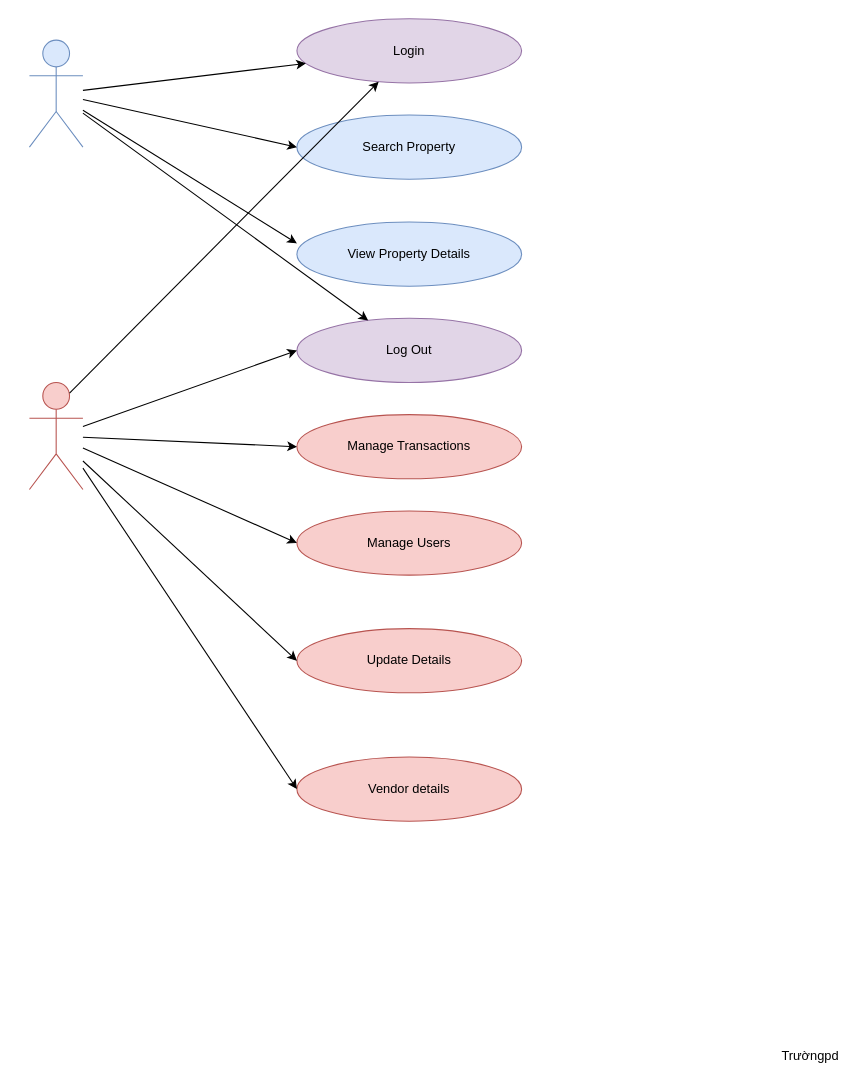
This 857x1086 diagram has some shape labels left out. The centre of each missing label's shape, as x and y in pixels:
Administrator: [55,435]
User: [55,93]
